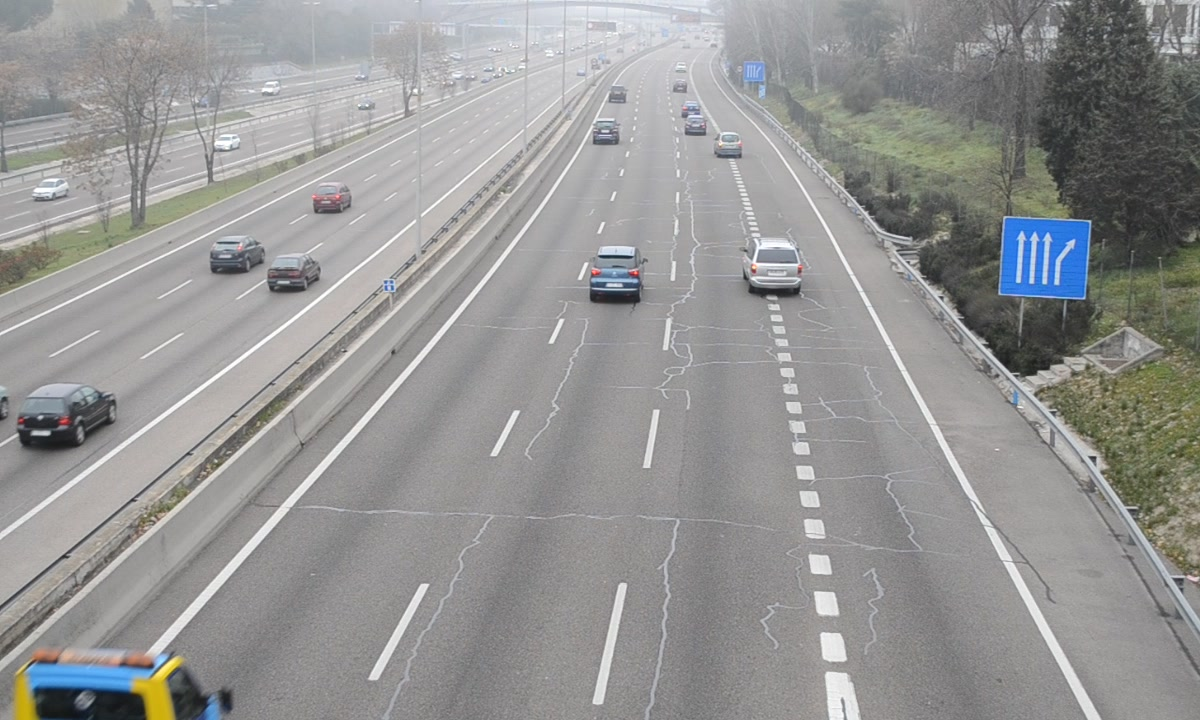car: (745, 237, 801, 290), (591, 246, 644, 301), (591, 117, 620, 146), (715, 130, 743, 158)
